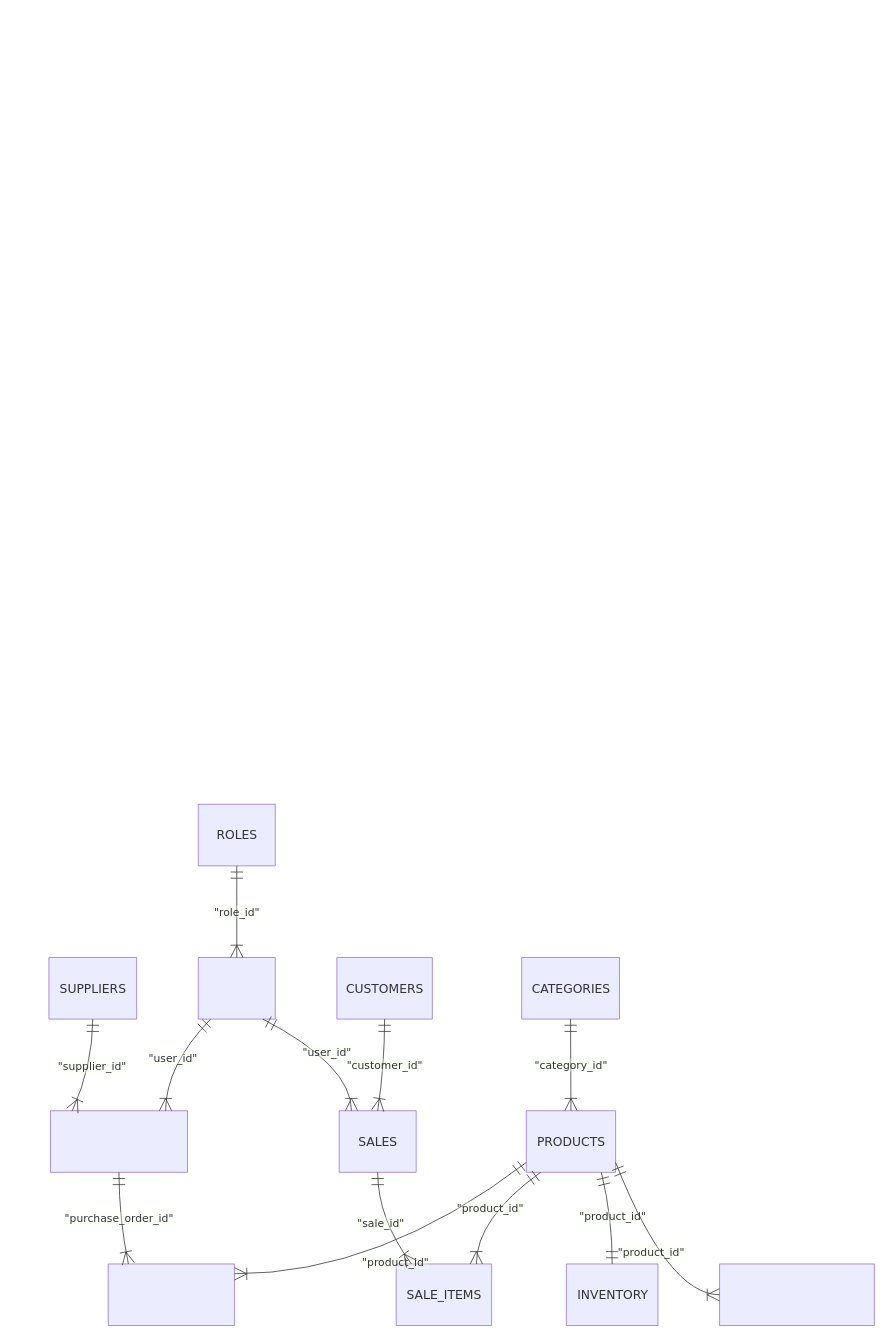
This 888x1339 diagram has some shape labels left out. Here are the shapes that lost their labels. From the top down, the centre of each, then its label:
At point 236,988: "USERS".
At point 118,1141: "PURCHASE_ORDERS".
At point 170,1294: "PURCHASE_ITEMS".
At point 796,1294: "STOCK_TRANSACTIONS".
